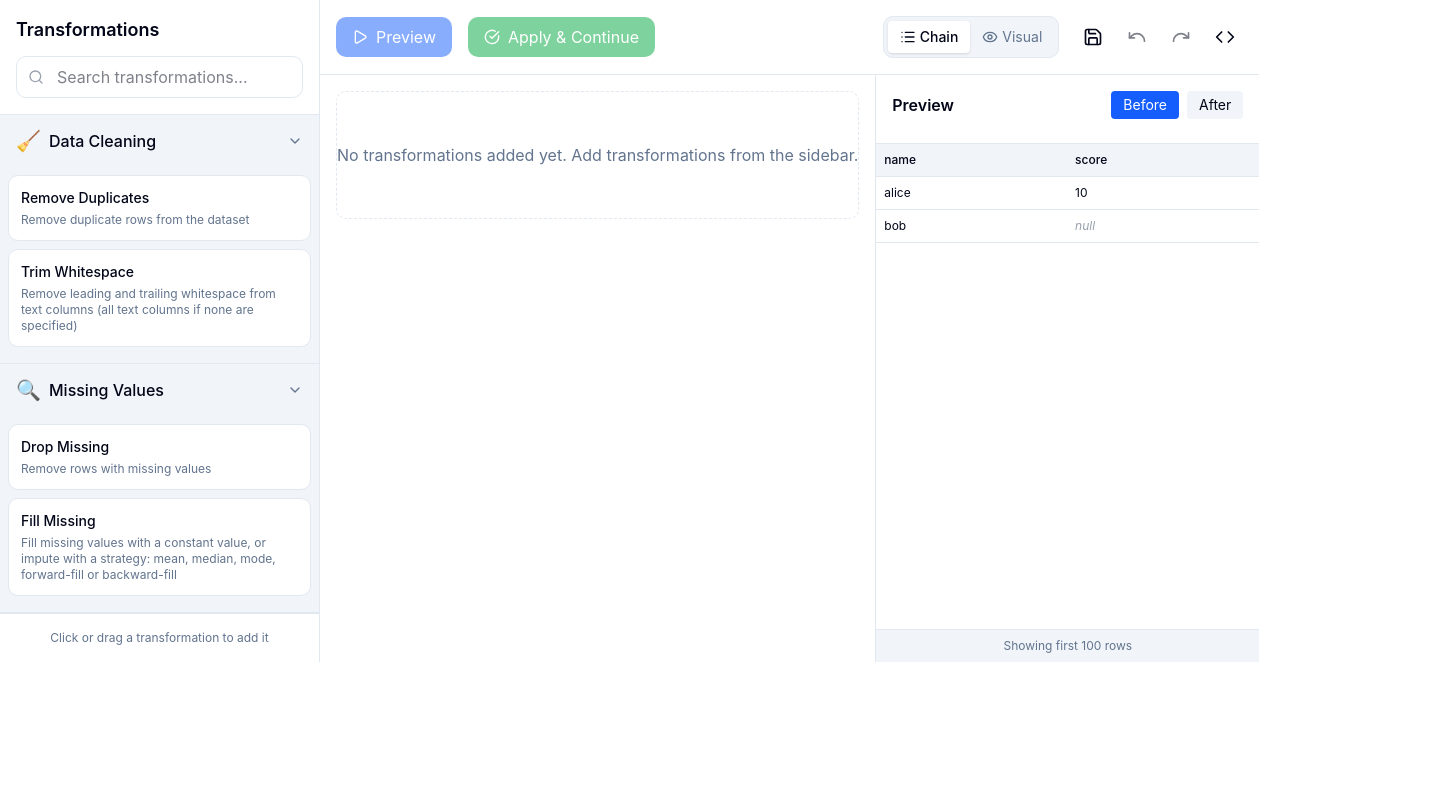
it: TransformationPipeline recipes (#859) › says so when the recipes cannot be loaded
What coordinates should you click on to do the following:
click the button titled "Manage Recipes"
I would click on:
 (1093, 37)
Its box is [1075,19,1111,55].
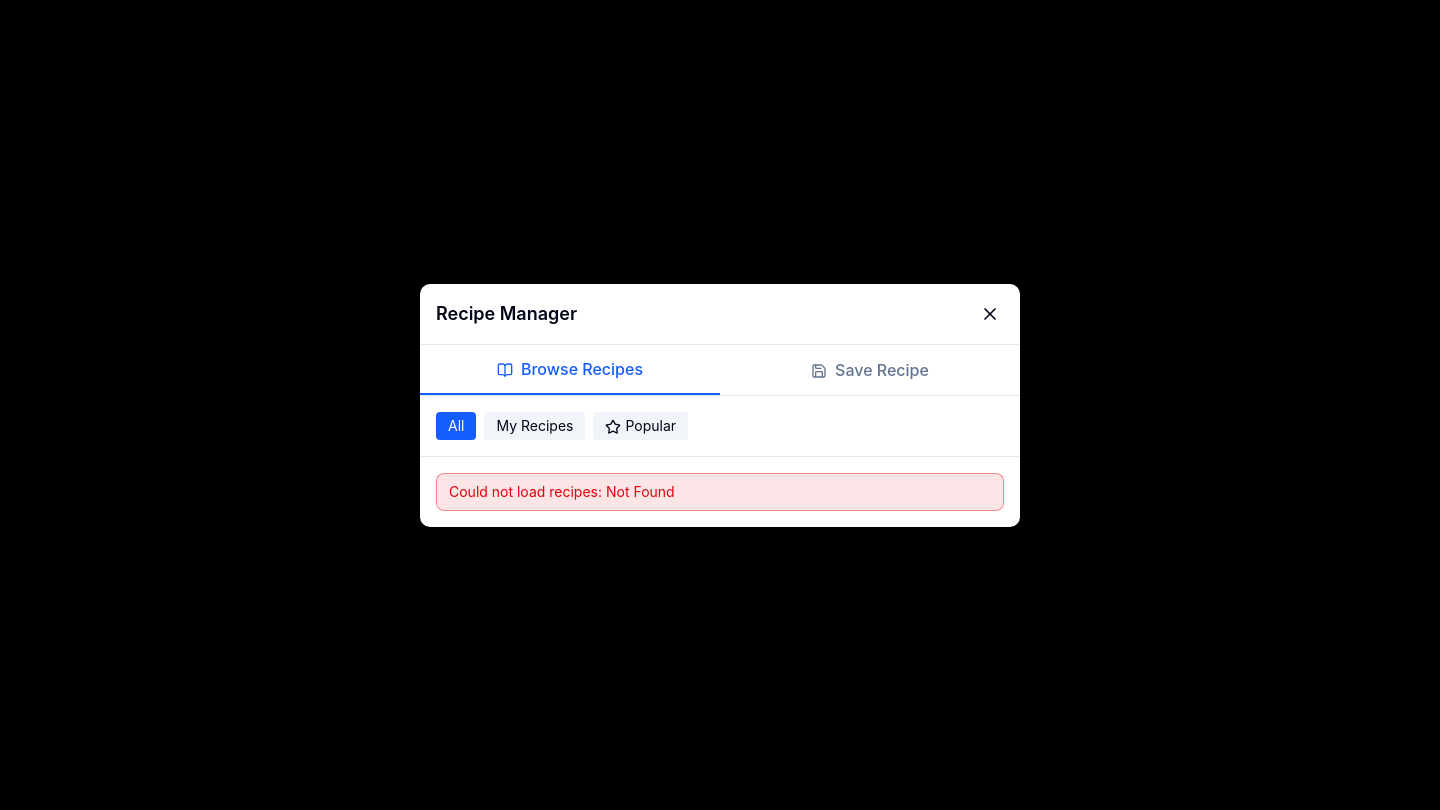
Check: the message shows "Could not load recipes", box [449,482,606,500]
